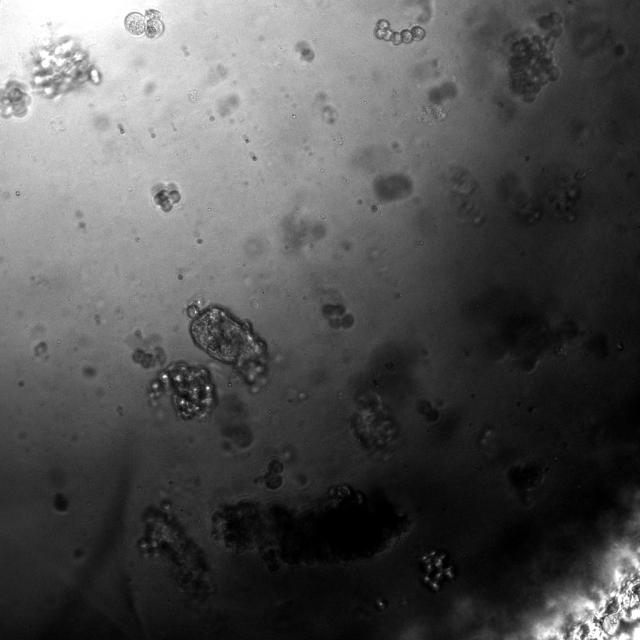organoid: (212, 484, 409, 567), (467, 287, 578, 372), (185, 294, 271, 393), (138, 505, 210, 600), (508, 11, 562, 101), (31, 37, 101, 98), (148, 361, 218, 420), (350, 389, 398, 452), (508, 462, 548, 504), (417, 549, 456, 592), (376, 19, 426, 44), (0, 80, 31, 118), (125, 9, 164, 39), (253, 458, 284, 490), (152, 183, 181, 212), (322, 304, 353, 328), (133, 347, 166, 368), (418, 400, 439, 421)
